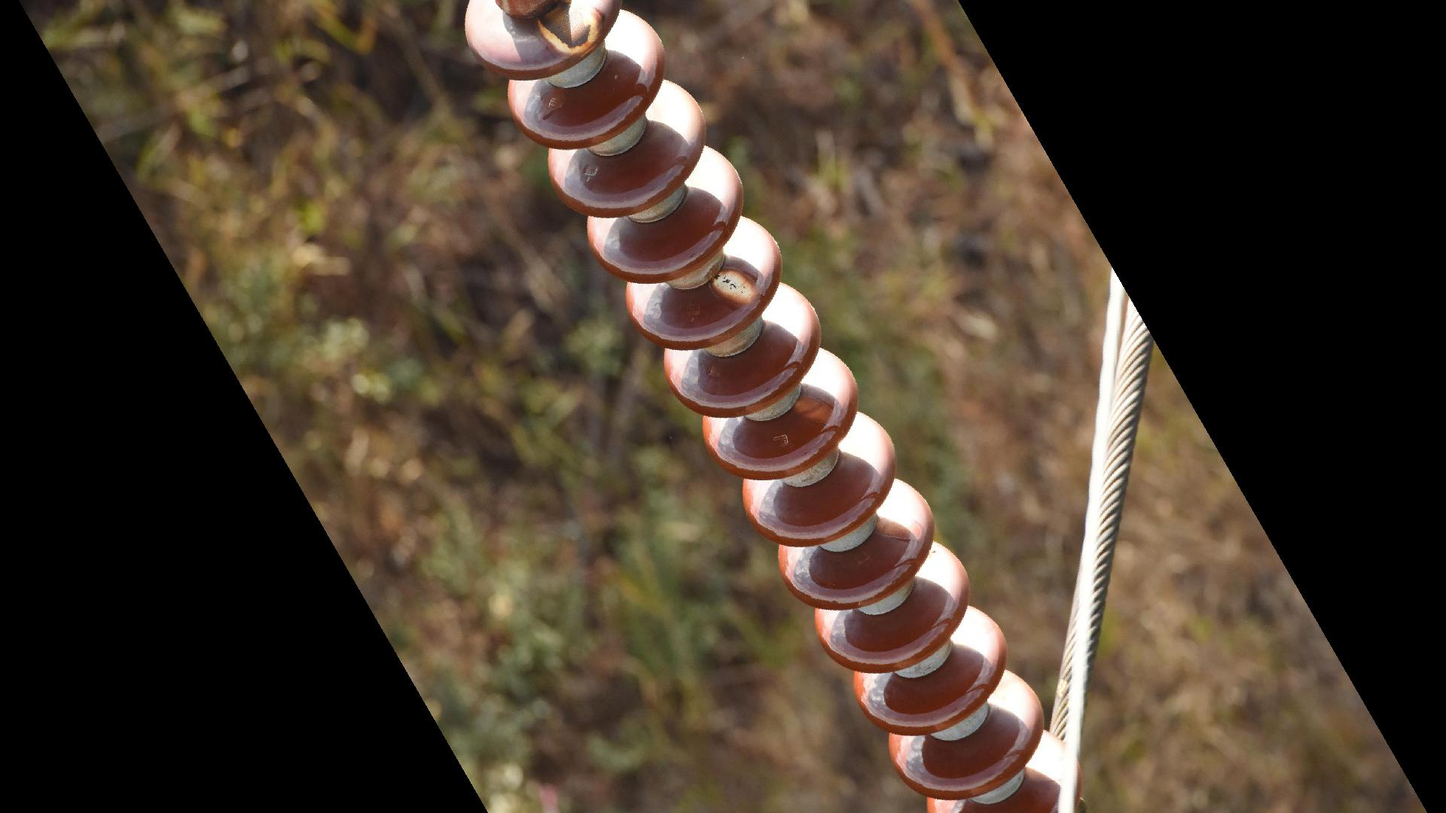insulator: (453, 1, 1089, 813)
insulator_flashover: (536, 2, 608, 57), (710, 264, 760, 309), (792, 393, 844, 428)
